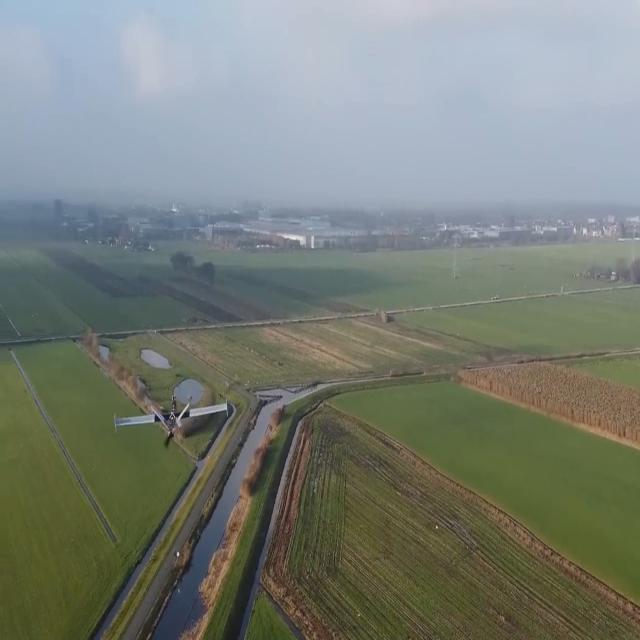iha: (143, 410, 198, 415)
